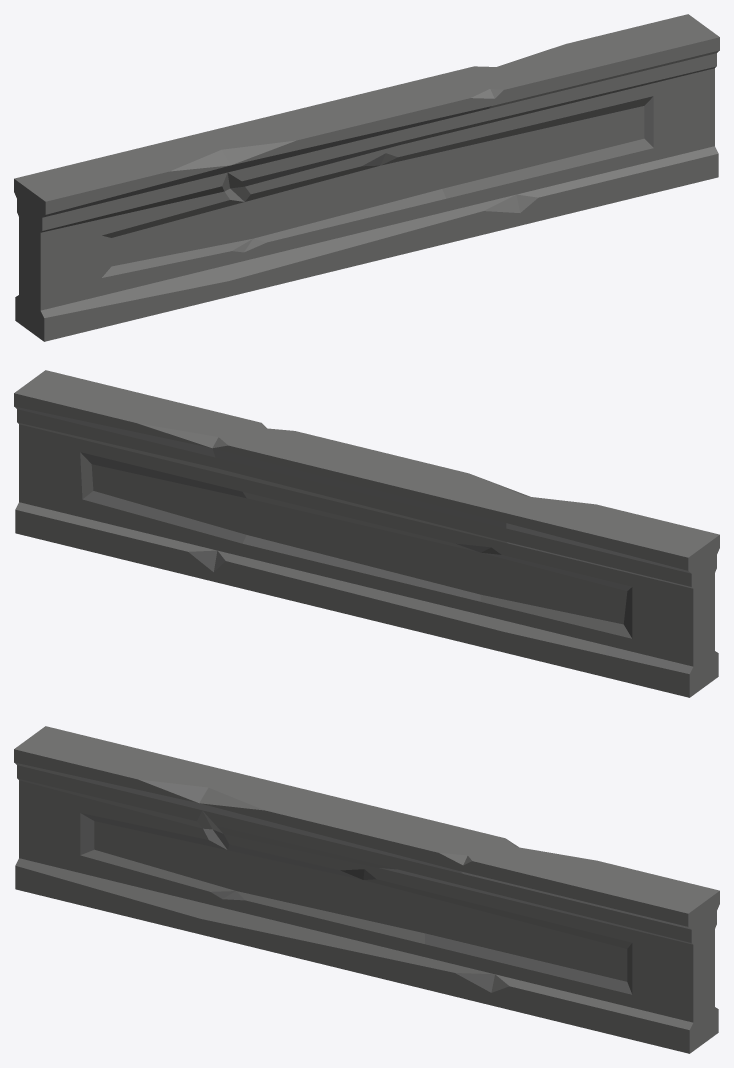
File: SM_Env_Railing_02.glb
The picture shows the model from 3 angles, top to bottom: view 1: azimuth 30°, elevation 25°; view 2: azimuth 150°, elevation 25°; view 3: azimuth 330°, elevation 25°; orthographic projection.
Parts seen in each view (by area): view 1: SM_Env_Railing_02; view 2: SM_Env_Railing_02; view 3: SM_Env_Railing_02.
Boxes of the visible parts, left/top/right/bottom form: SM_Env_Railing_02: left=14, top=14, right=719, bottom=341; SM_Env_Railing_02: left=14, top=370, right=719, bottom=697; SM_Env_Railing_02: left=14, top=726, right=719, bottom=1053.
Bounding box in the file's own units: 0.05 × 0.01 × 0.00406.
Materials: 1 (1 with a texture image).
